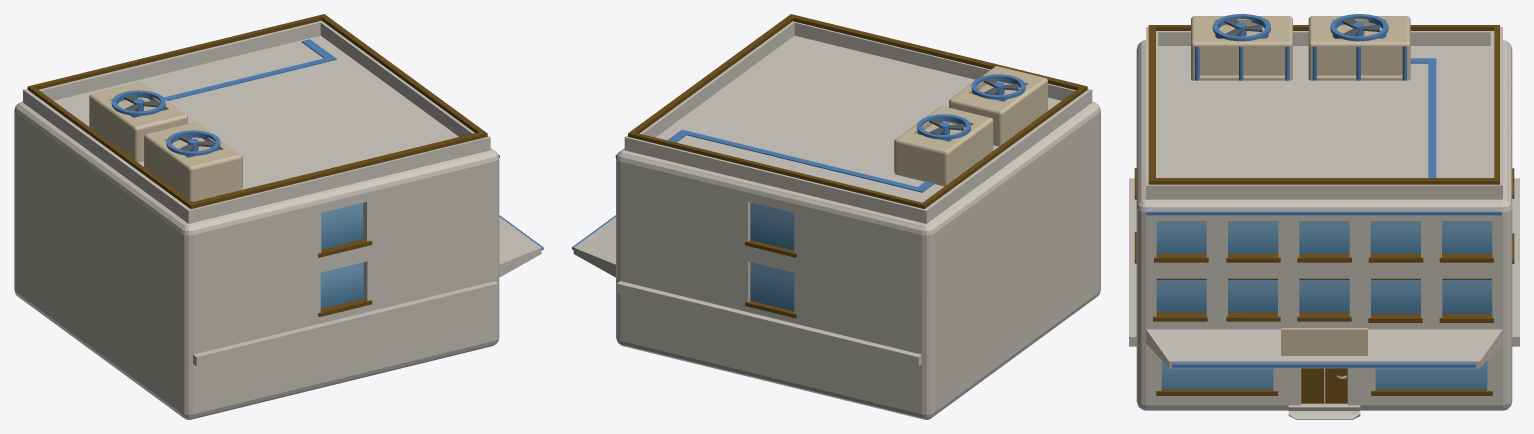
File: CUPIC_HOSTEL.obj
3 renders of one model, left to right at view 1: azimuth 30°, elevation 25°; view 2: azimuth 150°, elevation 25°; view 3: azimuth 270°, elevation 25°, orthographic. The views are drawn at different scales.
Size of the model in its own units: 395 by 236 by 332.
Materials: 1 (1 with a texture image).
